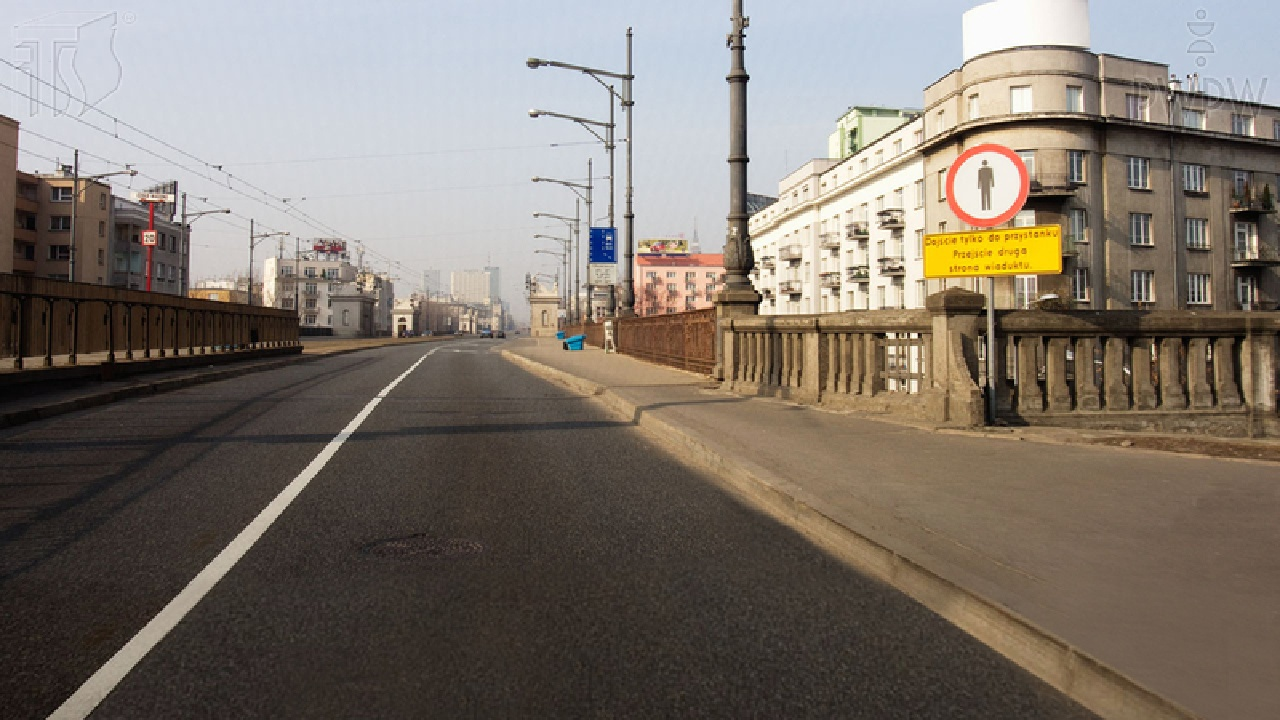B41: (947, 143, 1030, 227)
